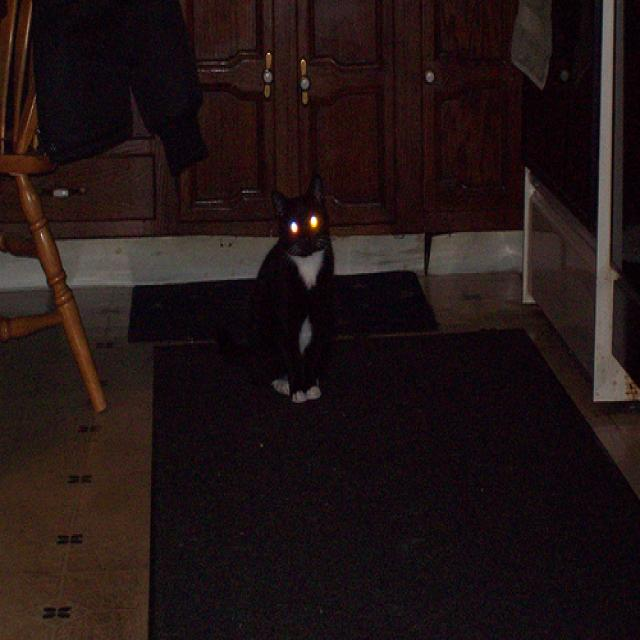Cat: (214, 173, 358, 434)
chair: (0, 0, 129, 438)
